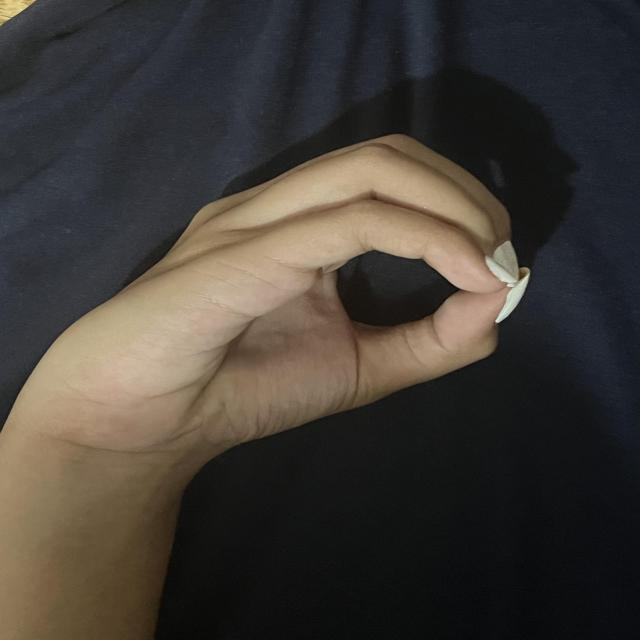O: (71, 130, 522, 440)
